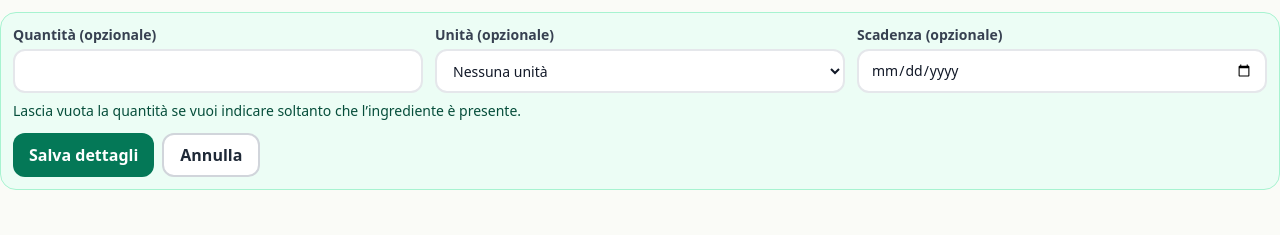
PantryLotEditor › requires a unit when a quantity is entered
Type "320" into the number field named "Quantità del lotto". click: (218, 71)
box: top-left (13, 49), bottom-right (423, 93)
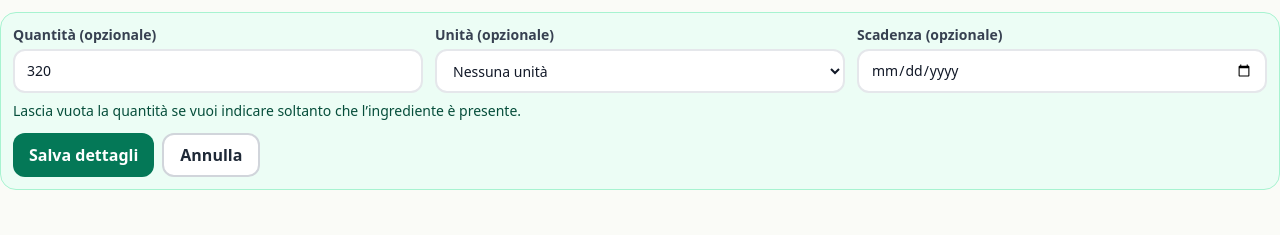
Click the button "Salva dettagli". click: (84, 155)
box: top-left (13, 133), bottom-right (154, 177)
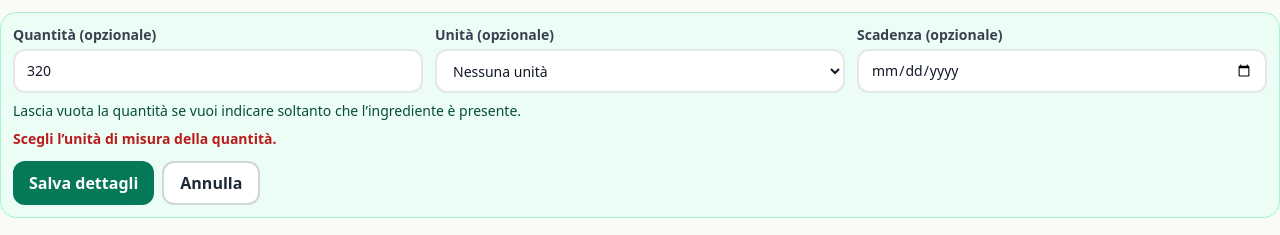
Check: the message shows "Scegli l’unità di misura", box top-left (13, 129), bottom-right (276, 148)
